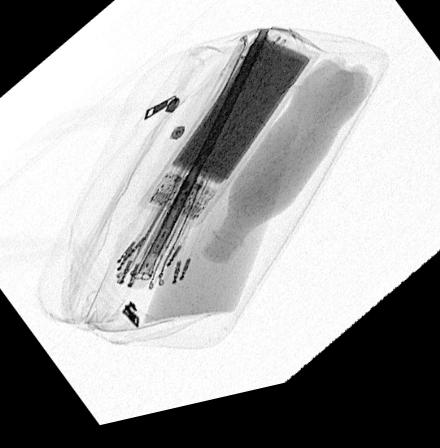Powerbank: (136, 39, 321, 235)
